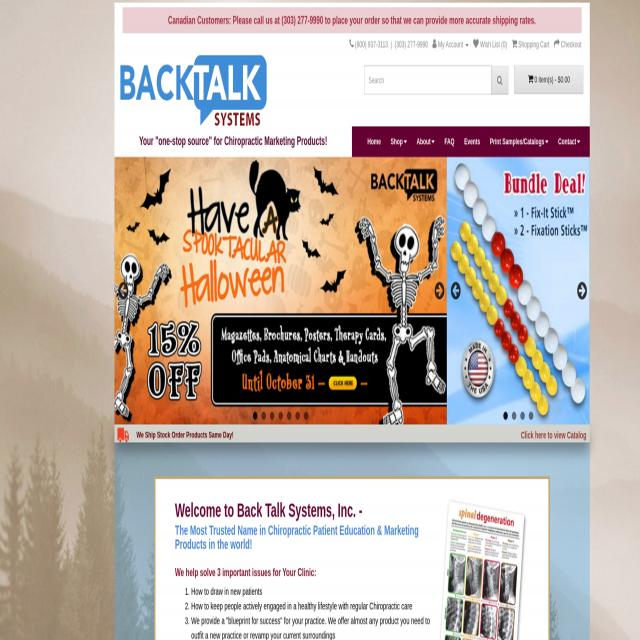button: (114, 158, 447, 425), (447, 158, 589, 424), (435, 493, 530, 640), (120, 53, 266, 124), (485, 127, 553, 157), (514, 66, 584, 95), (554, 126, 585, 155), (412, 126, 439, 156), (459, 127, 485, 157), (386, 127, 412, 156), (362, 127, 386, 156), (439, 128, 459, 157), (492, 66, 509, 95), (115, 424, 132, 447), (450, 282, 461, 301), (434, 281, 444, 300), (577, 282, 587, 300), (119, 282, 128, 300)
field: (364, 66, 492, 95)
